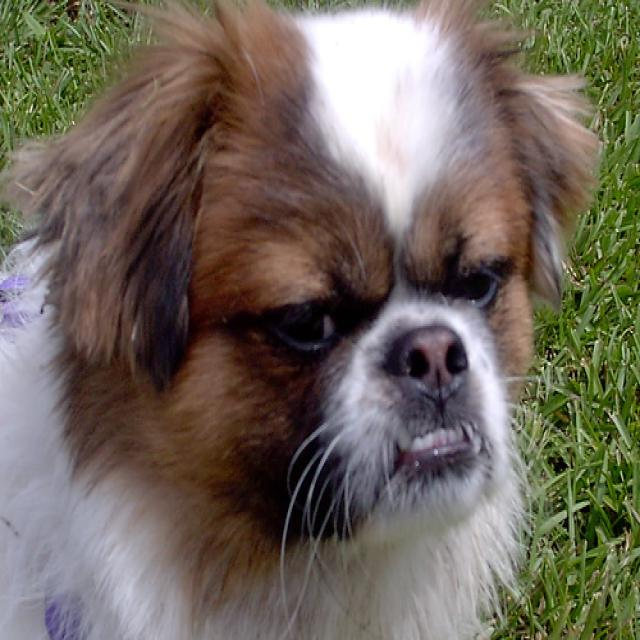dog-japanese_chin: (1, 2, 617, 637)
